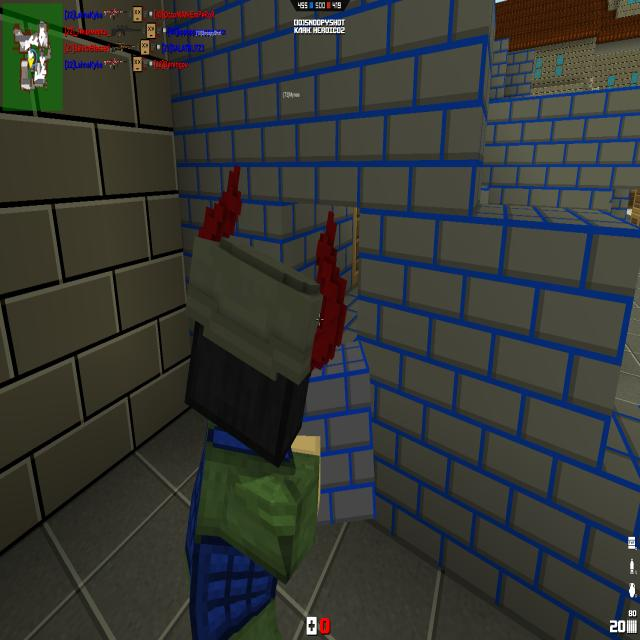player: (185, 166, 346, 633)
